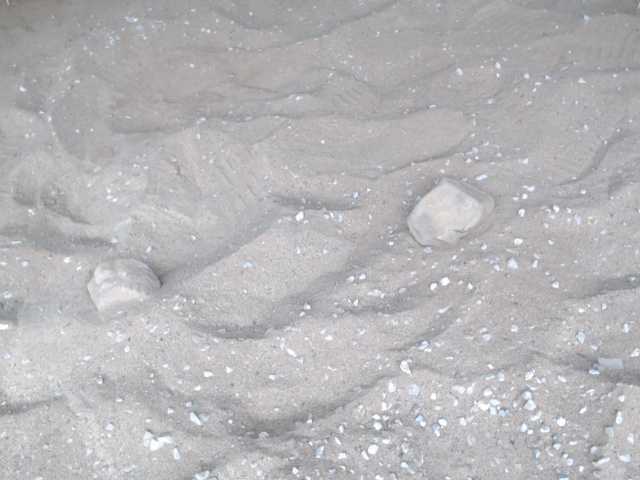rock: (400, 171, 500, 255), (80, 252, 168, 316)
